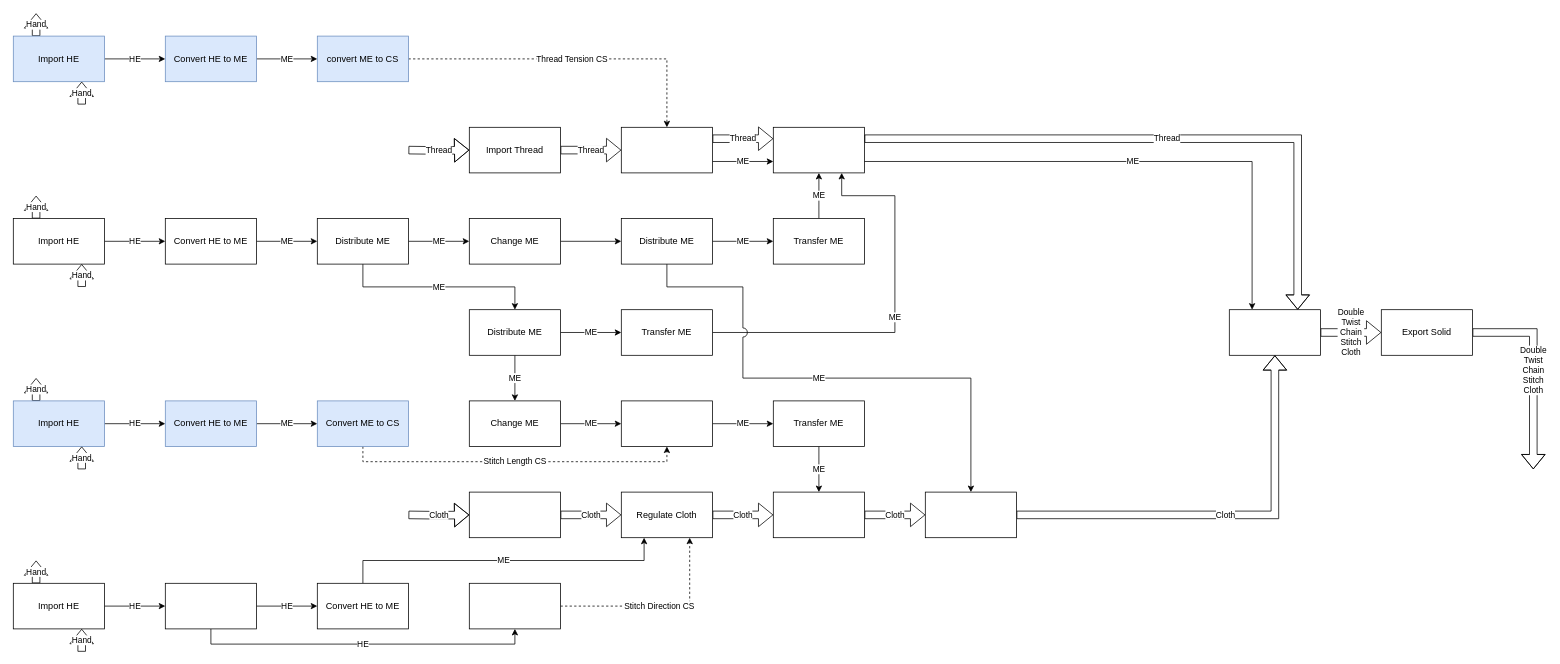
This 1560x664 diagram has some shape labels left out. The shapes that lost their labels are listed below. From the top down, each one's centre as x and y in pixels, then its label:
the point at 666,150: Regulate Thread (tensioning system shown but not described)
the point at 818,150: Guide Thread (thread & takeup arm)
the point at 1274,332: Couple Solids
the point at 666,423: Regulate ME (assuming that there is a cloth feed speed control)
the point at 514,514: Import Cloth
the point at 818,514: Guide Cloth
the point at 970,514: Secure Cloth
the point at 210,606: Distribute HE
the point at 514,606: Convert HE to CS
